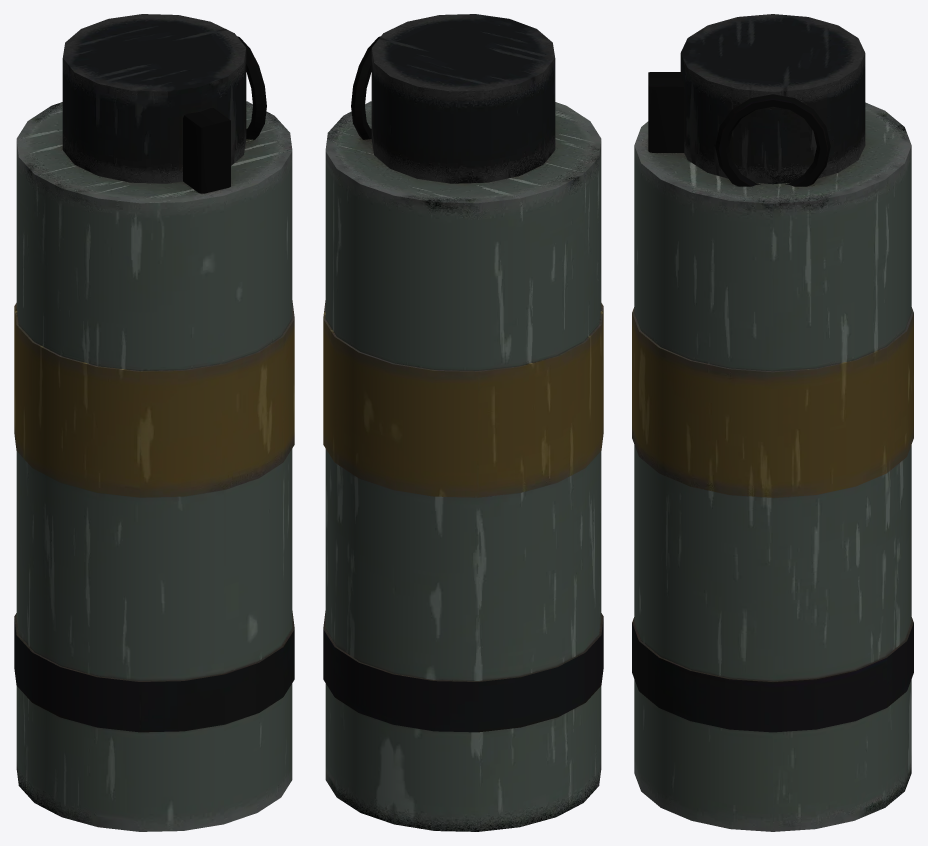
File: smoke.glb
The picture shows the model from 3 angles, left to right: view 1: azimuth 30°, elevation 25°; view 2: azimuth 150°, elevation 25°; view 3: azimuth 270°, elevation 25°; orthographic projection.
Visible parts, largest first — view 1: body_body, body_metal, body_receiver; view 2: body_body, body_metal, body_receiver; view 3: body_body, body_metal, body_receiver.
Boxes of the visible parts, box(x1,y1,x2,y2) form: body_body: box(16, 101, 292, 831); body_metal: box(14, 36, 294, 732); body_receiver: box(62, 14, 246, 183); body_body: box(325, 101, 601, 831); body_metal: box(323, 36, 603, 732); body_receiver: box(371, 14, 555, 183); body_body: box(634, 102, 911, 831); body_metal: box(632, 72, 913, 732); body_receiver: box(680, 14, 865, 184).
Bounding box in the file's own units: 0.061 × 0.172 × 0.061.
3 materials, 3 textured.
